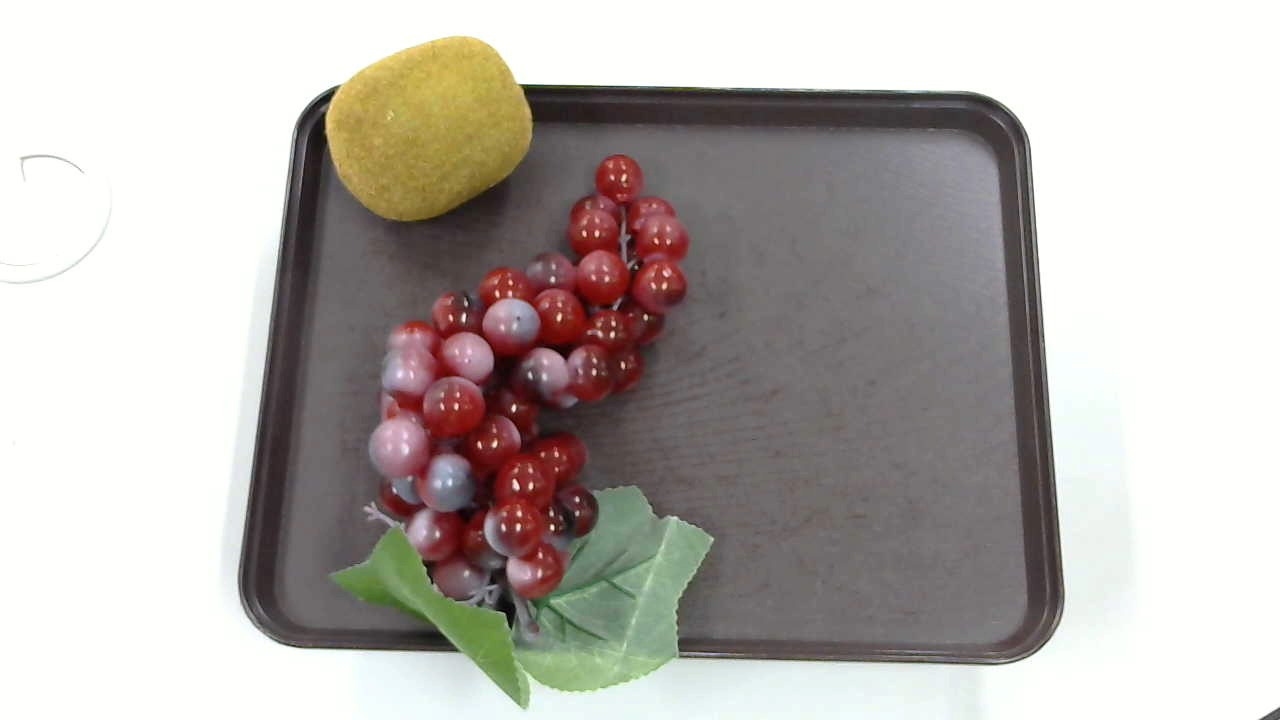grape: (330, 152, 727, 705)
kiwi fruit: (322, 35, 534, 219)
